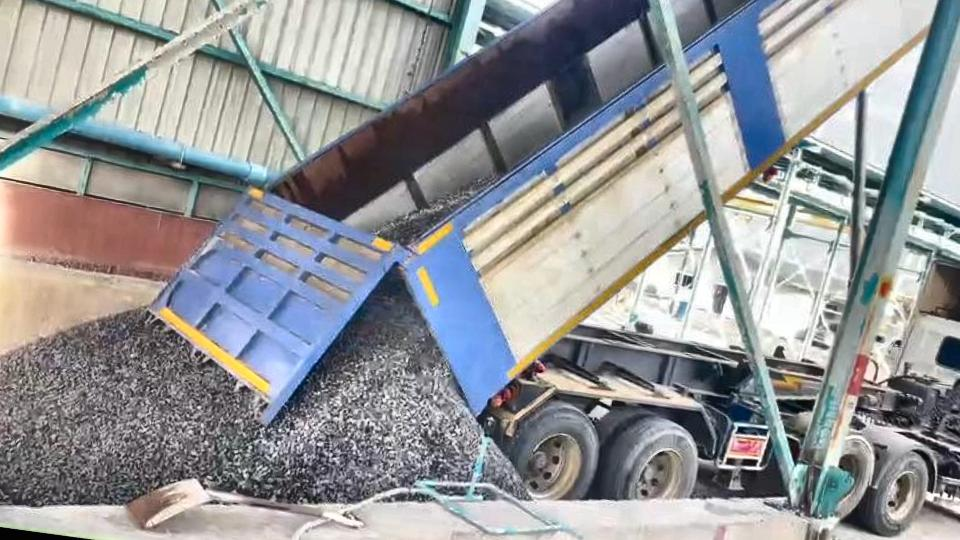gravel: (0, 275, 482, 505), (377, 175, 498, 242), (484, 447, 525, 496)
